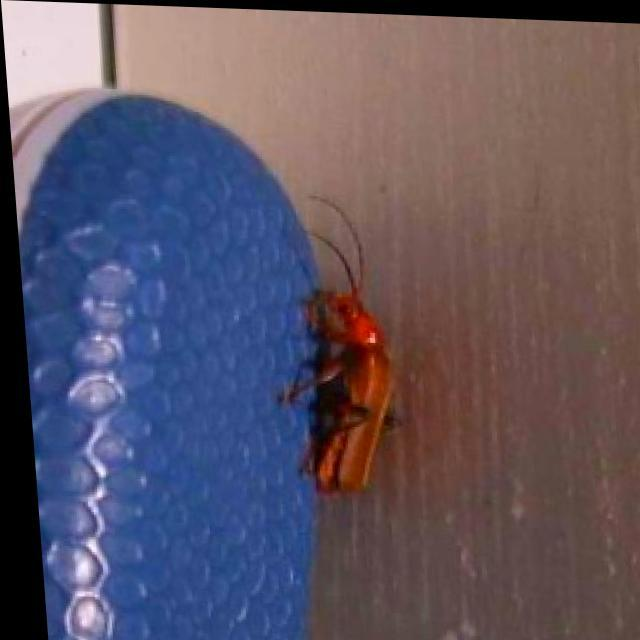cockroach: (274, 190, 405, 499)
